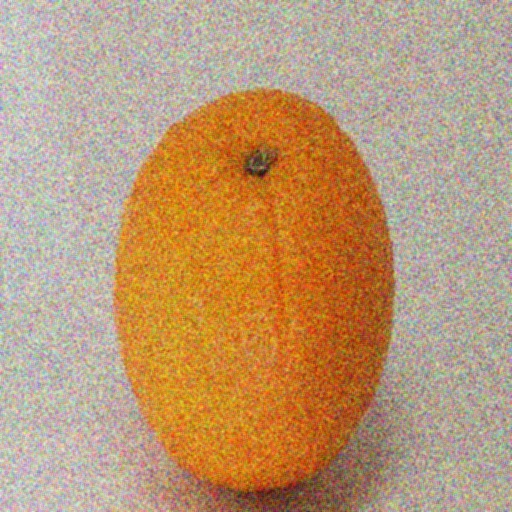fruit: (332, 131, 456, 483)
